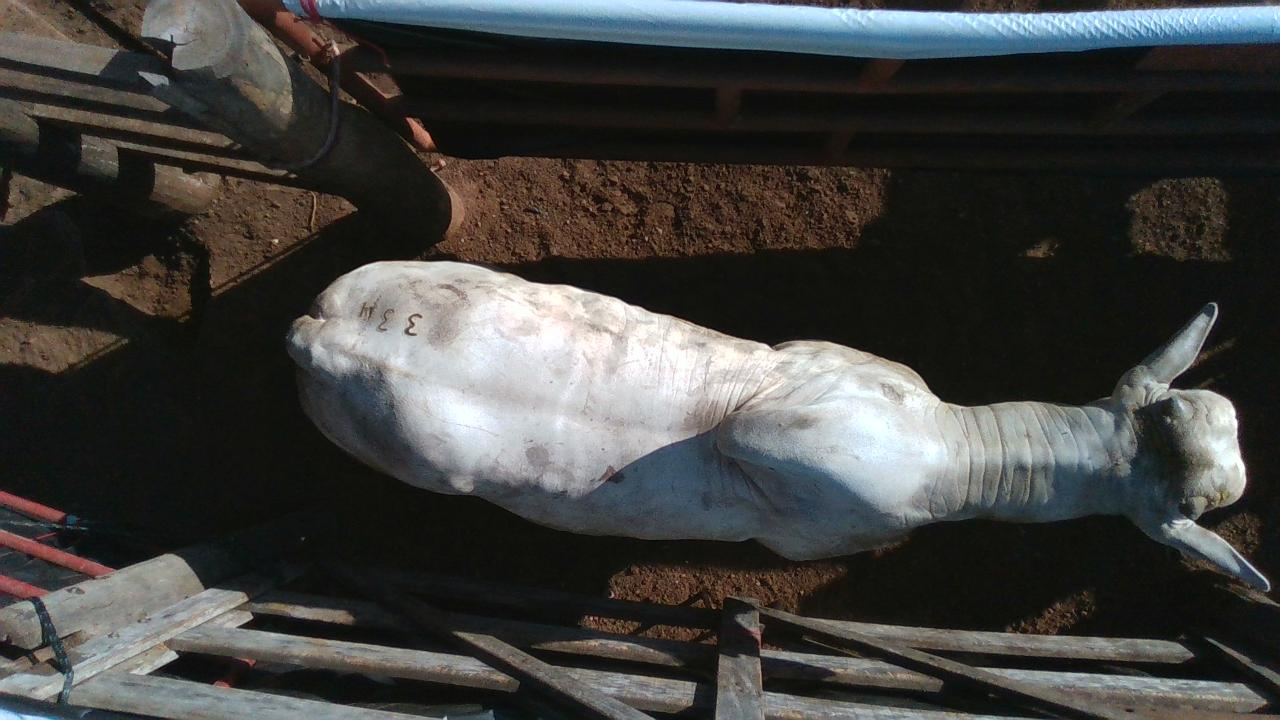cattle: (284, 257, 1271, 593)
